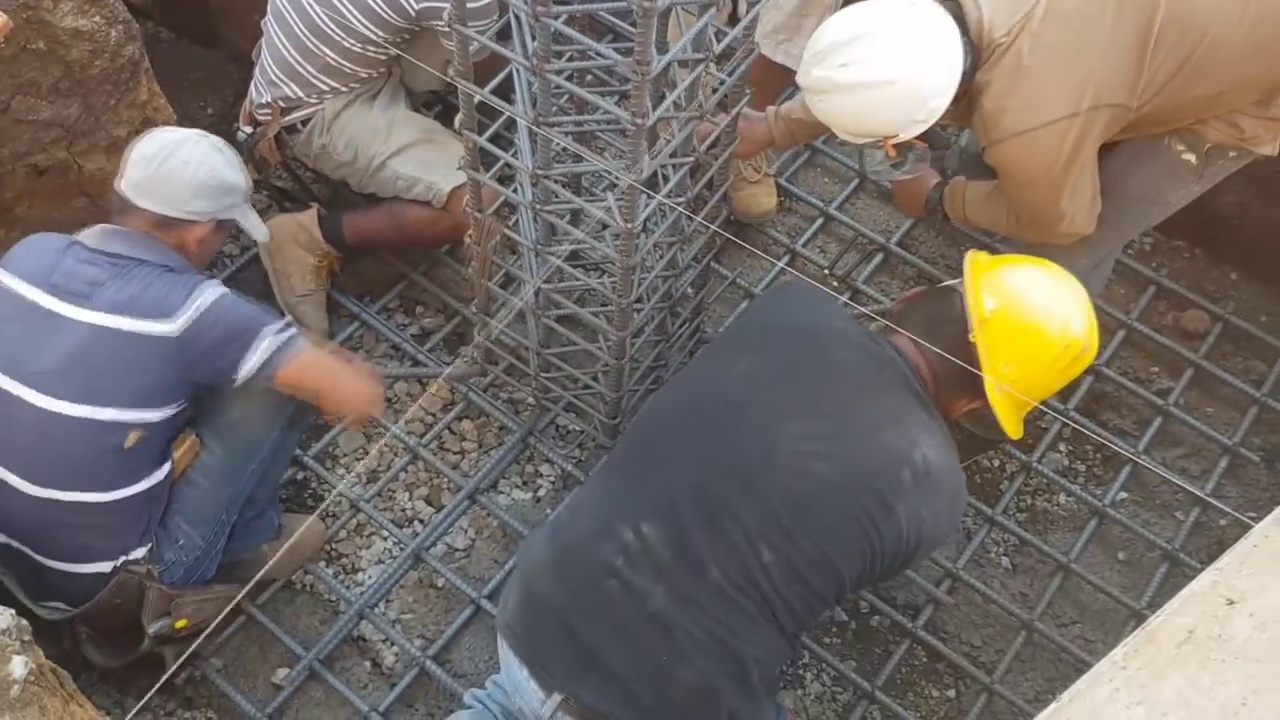helmet: (958, 258, 1102, 442), (798, 0, 961, 154)
helmet-off: (105, 122, 253, 269)
helmet-on: (877, 255, 1104, 456), (798, 0, 993, 159)
person: (440, 261, 1102, 720), (0, 118, 393, 685), (798, 0, 1280, 285), (224, 0, 517, 332), (645, 0, 800, 230)
